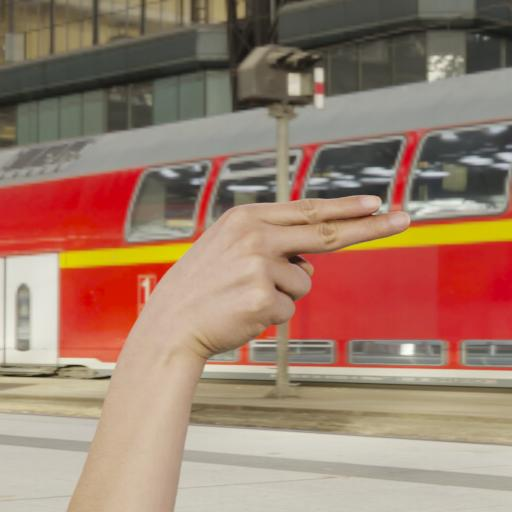H: (126, 173, 432, 512)
